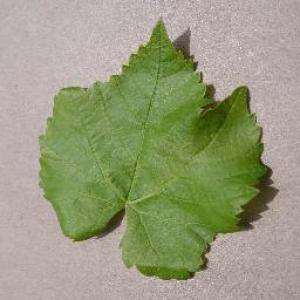Folha: (37, 15, 270, 280)
